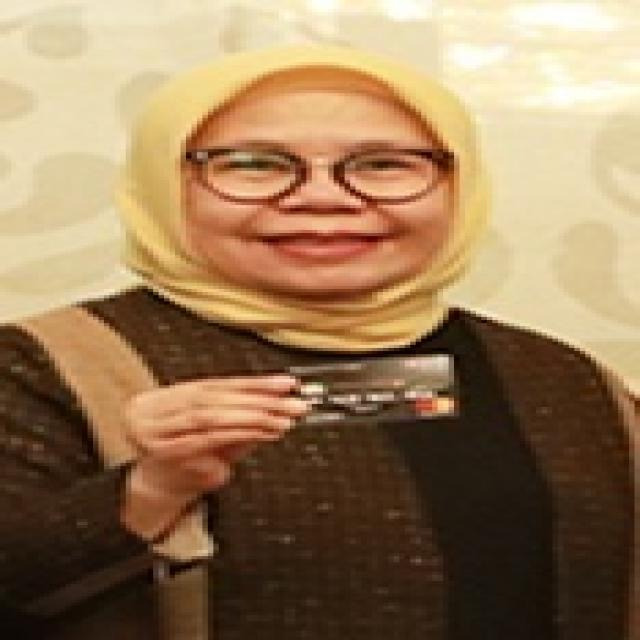head: (132, 43, 504, 311)
